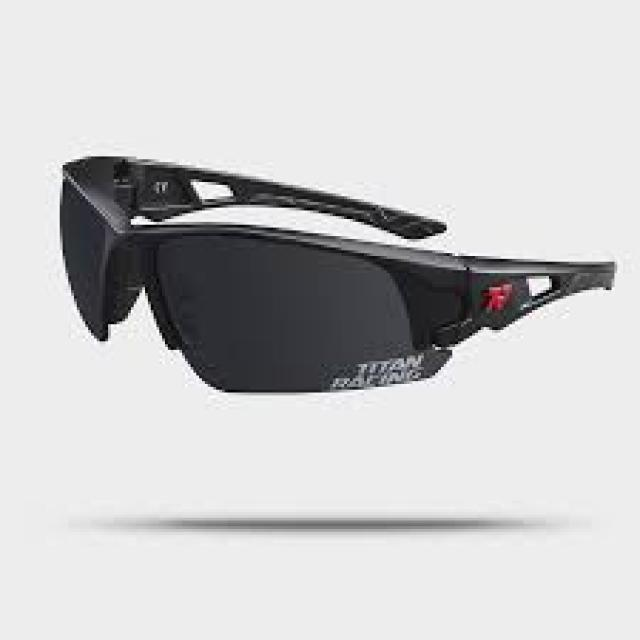sunglasses: (54, 152, 523, 394)
